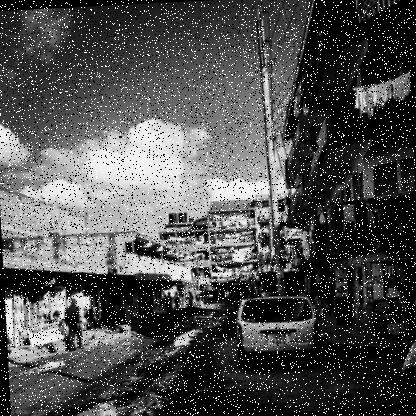Car: (234, 295, 322, 369)
